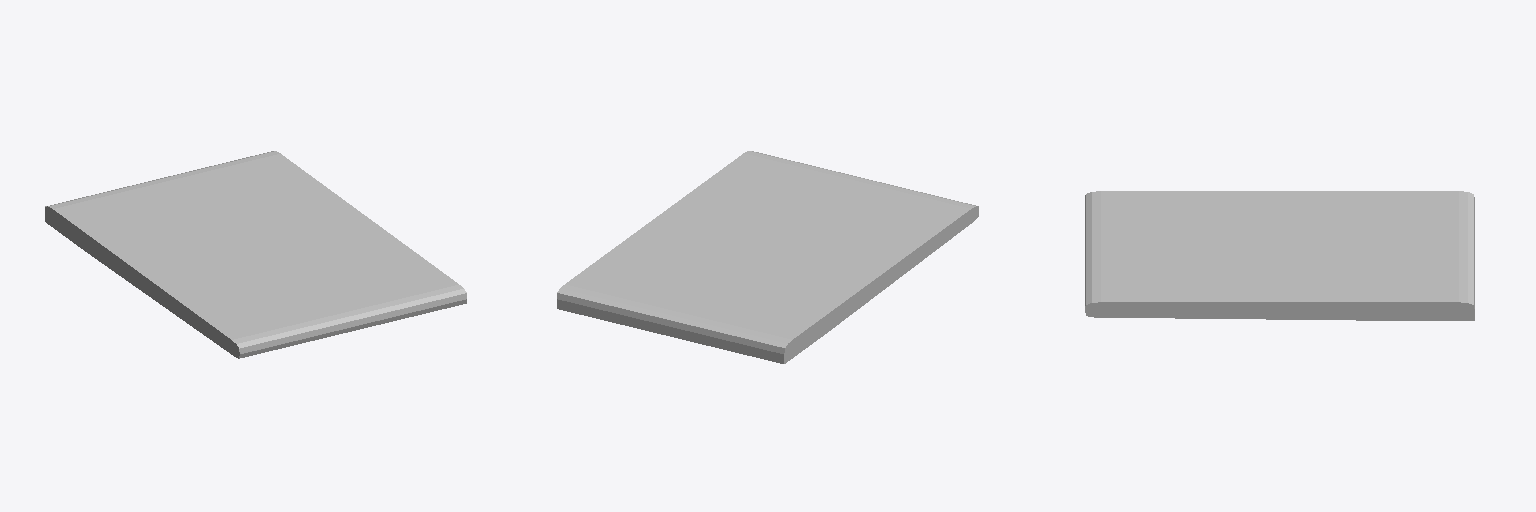
The model's file is Cart_pocket_collision_5.obj.
3 renders of one model, left to right at view 1: azimuth 30°, elevation 25°; view 2: azimuth 150°, elevation 25°; view 3: azimuth 270°, elevation 25°, orthographic.
Size of the model in its own units: 0.2161 by 0.0169 by 0.3206.